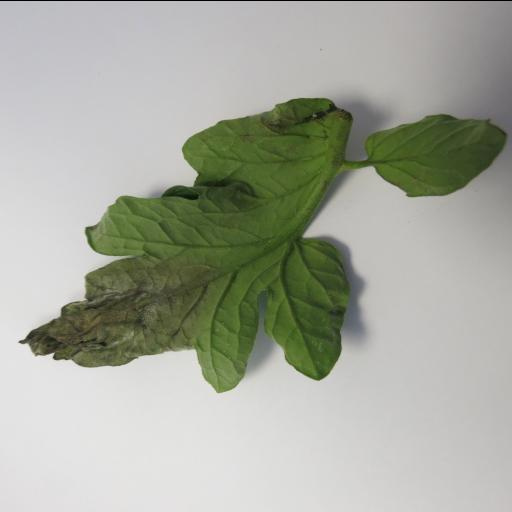Late Blight: (12, 78, 353, 398)
